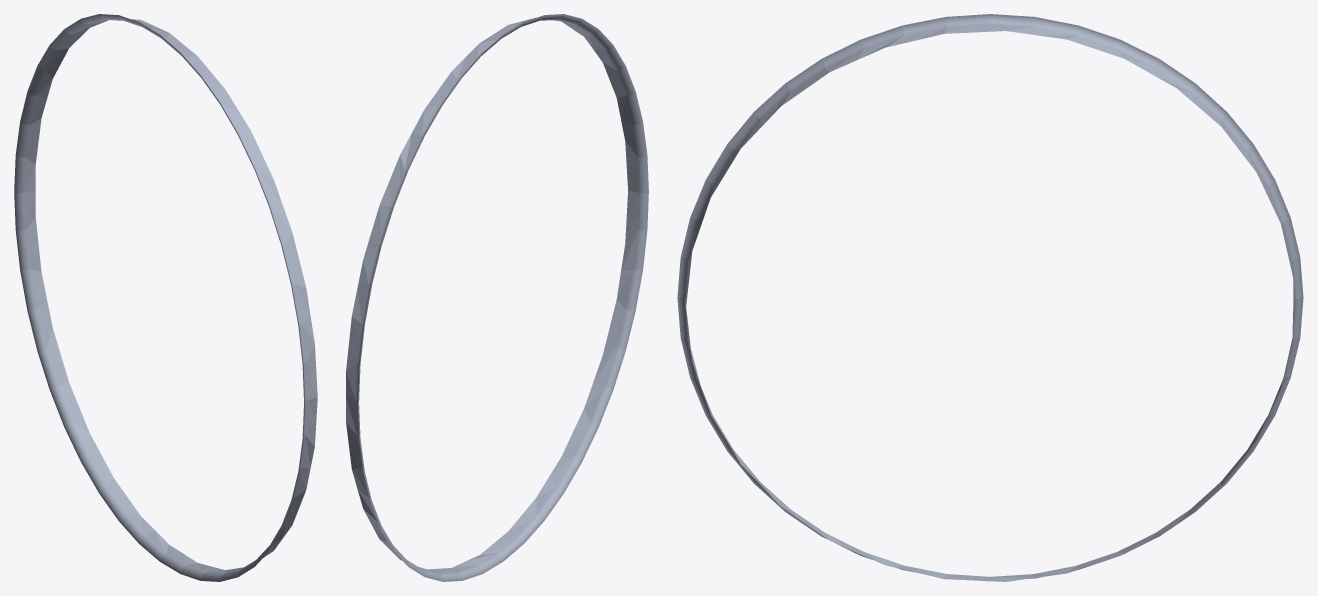
The model's file is zatana_terra_X_parts_vis_5.dae.
3 renders of one model, left to right at view 1: azimuth 30°, elevation 25°; view 2: azimuth 150°, elevation 25°; view 3: azimuth 270°, elevation 25°, orthographic. The views are drawn at different scales.
Parts seen in each view (by area): view 1: Node_000002318374BEC0; view 2: Node_000002318374BEC0; view 3: Node_000002318374BEC0.
Boxes of the visible parts, x1,y1,x2,y2 form: Node_000002318374BEC0: (14,14,317,581); Node_000002318374BEC0: (346,14,648,581); Node_000002318374BEC0: (677,14,1303,581).
Size of the model in its own units: 0.0013 by 0.039 by 0.039.
